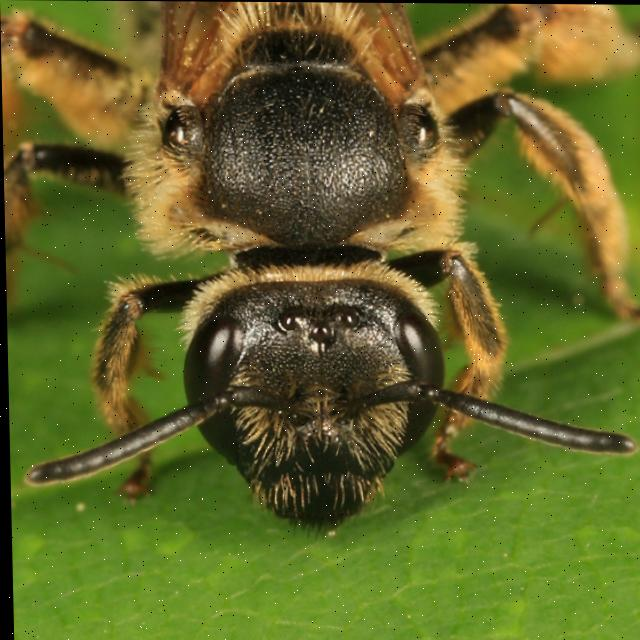Lasioglossum: (5, 0, 638, 574)
